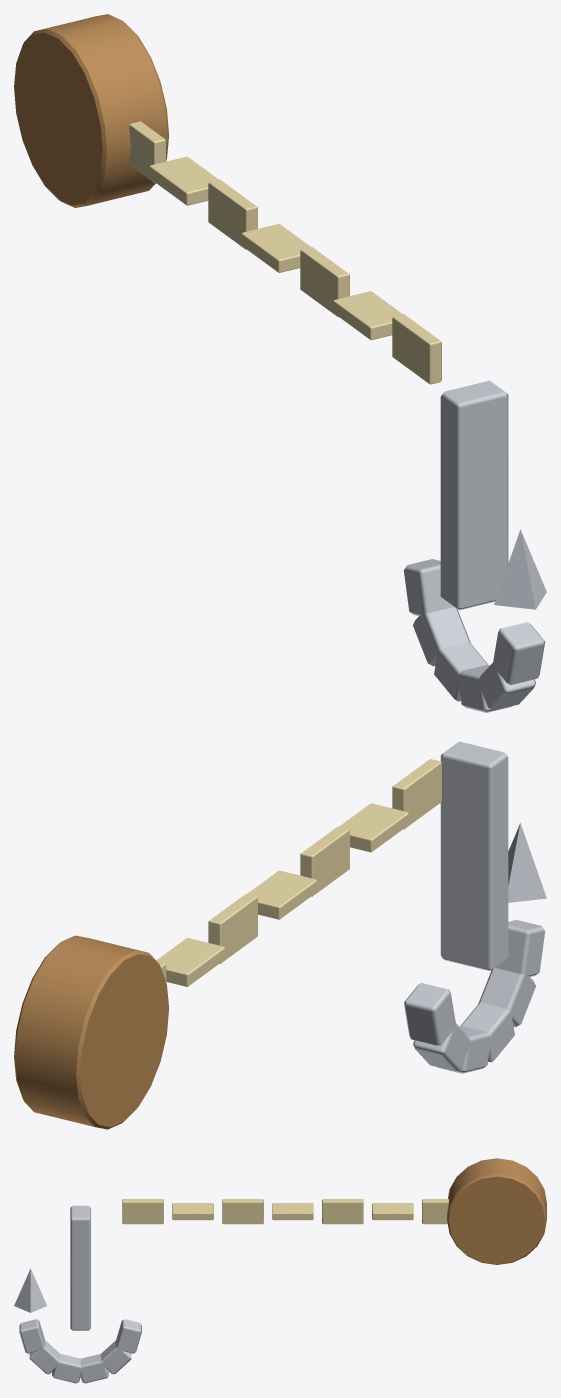
File: tape_hook.glb
3 renders of one model, top to bottom at view 1: azimuth 30°, elevation 25°; view 2: azimuth 150°, elevation 25°; view 3: azimuth 270°, elevation 25°, orthographic. The views are drawn at different scales.
Visible parts, largest first — view 1: tape_spool, hook_shank, hook_curve_5, tape_link_0, hook_tip, tape_link_2, tape_link_4, tape_link_5, tape_link_1, tape_link_3, hook_curve_1, hook_curve_0 (+4 smaller); view 2: tape_spool, hook_shank, hook_curve_0, tape_link_2, tape_link_0, tape_link_4, tape_link_1, tape_link_5, tape_link_3, hook_curve_4, hook_curve_5, hook_tip (+3 smaller); view 3: tape_spool, hook_shank, tape_link_0, tape_link_2, tape_link_4, hook_tip, tape_link_1, tape_link_3, tape_link_5, hook_curve_0, hook_curve_5, tape_link_6 (+4 smaller).
Boxes of the visible parts, bbox=[...] form: tape_spool: bbox=[14, 14, 168, 207]; hook_shank: bbox=[440, 380, 508, 610]; hook_curve_5: bbox=[492, 622, 544, 685]; tape_link_0: bbox=[392, 314, 441, 384]; hook_tip: bbox=[494, 529, 546, 609]; tape_link_2: bbox=[300, 246, 349, 317]; tape_link_4: bbox=[208, 179, 257, 249]; tape_link_5: bbox=[149, 156, 218, 205]; tape_link_1: bbox=[333, 291, 402, 340]; tape_link_3: bbox=[241, 224, 310, 272]; hook_curve_1: bbox=[413, 607, 470, 666]; hook_curve_0: bbox=[403, 559, 453, 615]; tape_spool: bbox=[14, 935, 168, 1129]; hook_shank: bbox=[440, 741, 508, 971]; hook_curve_0: bbox=[404, 983, 456, 1045]; tape_link_2: bbox=[300, 826, 349, 896]; tape_link_0: bbox=[392, 759, 441, 829]; tape_link_4: bbox=[208, 893, 257, 963]; tape_link_1: bbox=[339, 803, 409, 852]; tape_link_5: bbox=[156, 937, 225, 986]; tape_link_3: bbox=[248, 870, 317, 919]; hook_curve_4: bbox=[478, 968, 535, 1027]; hook_curve_5: bbox=[495, 920, 545, 976]; hook_tip: bbox=[508, 823, 546, 902]; tape_spool: bbox=[447, 1158, 546, 1264]; hook_shank: bbox=[70, 1205, 90, 1330]; tape_link_0: bbox=[122, 1199, 163, 1224]; tape_link_2: bbox=[222, 1199, 263, 1224]; tape_link_4: bbox=[322, 1199, 363, 1224]; hook_tip: bbox=[14, 1268, 46, 1312]; tape_link_1: bbox=[172, 1203, 213, 1220]; tape_link_3: bbox=[272, 1203, 313, 1220]; tape_link_5: bbox=[372, 1203, 413, 1220]; hook_curve_0: bbox=[116, 1319, 141, 1353]; hook_curve_5: bbox=[19, 1319, 44, 1353]; tape_link_6: bbox=[422, 1199, 448, 1224].
Bounding box in the file's own units: 0.1 × 0.5672 × 1.28.
